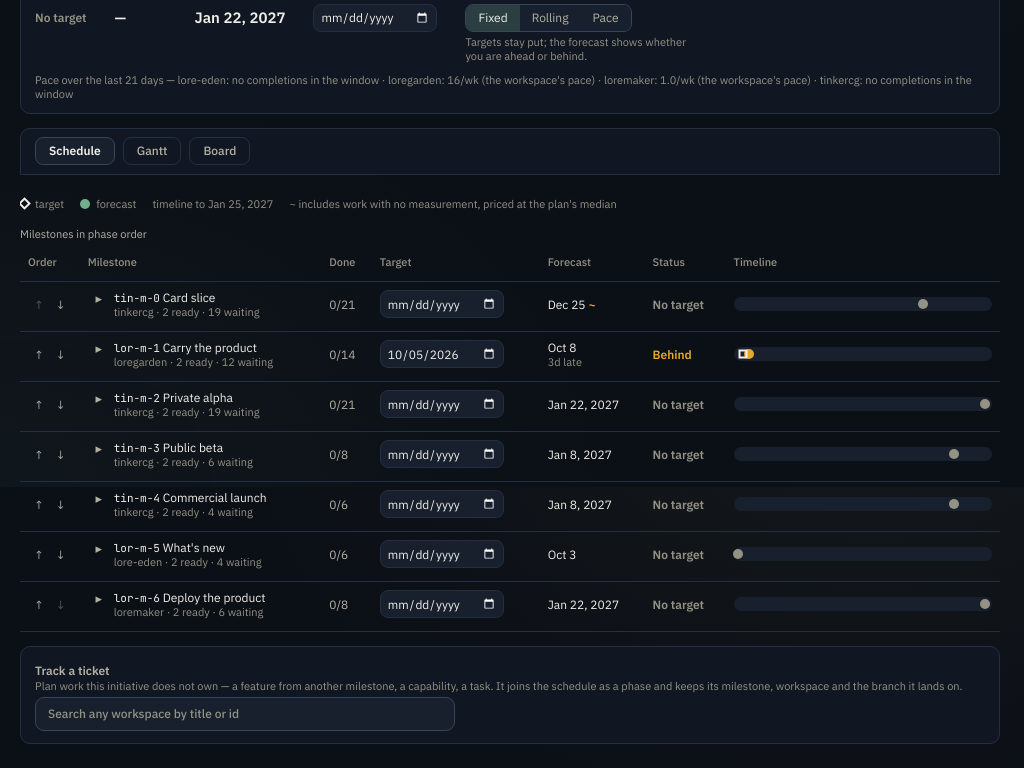
Test: a target date says it is not saved until Enter, then that it is
(page scrolled)
Step 1. Type "2026-12-15" into the date field named "Target date for Public beta" → [442, 454], box left=380, top=440, right=504, bottom=468
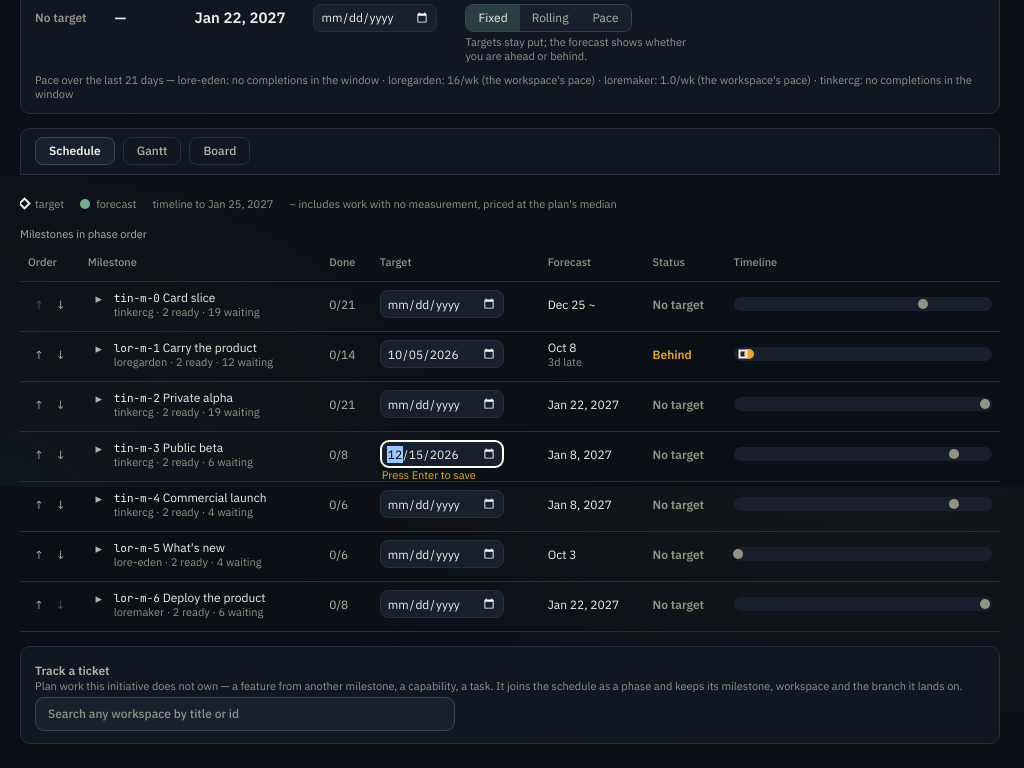
Expected: the text "Press Enter to save" is shown, left=382, top=469, right=476, bottom=482
Step 2. Press Enter
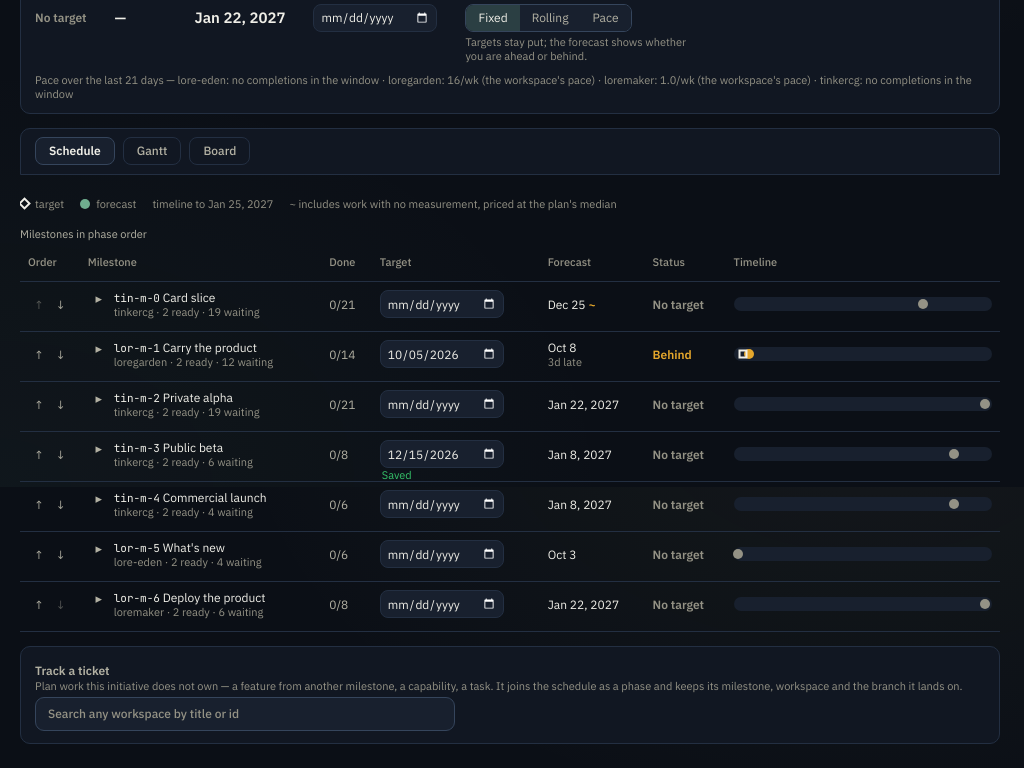
Expected: the text "Saved" is shown, left=382, top=469, right=412, bottom=482
